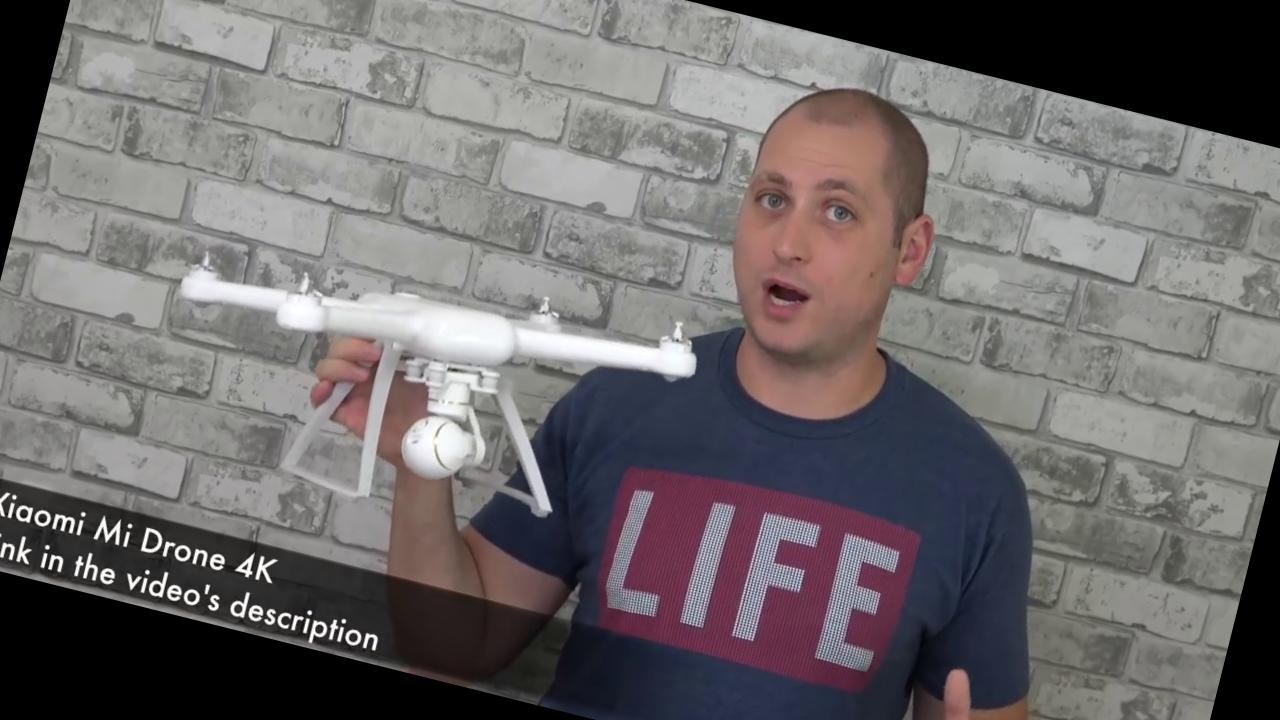drone: (161, 200, 718, 448)
